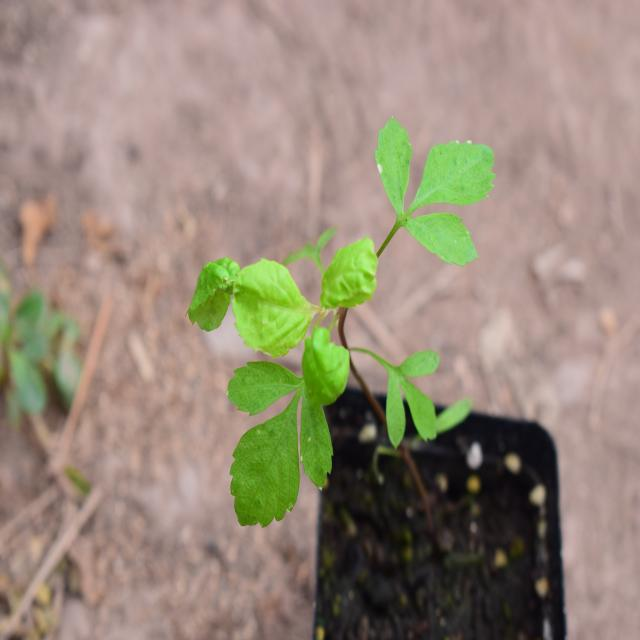Bidens pilosa: (192, 94, 499, 528)
